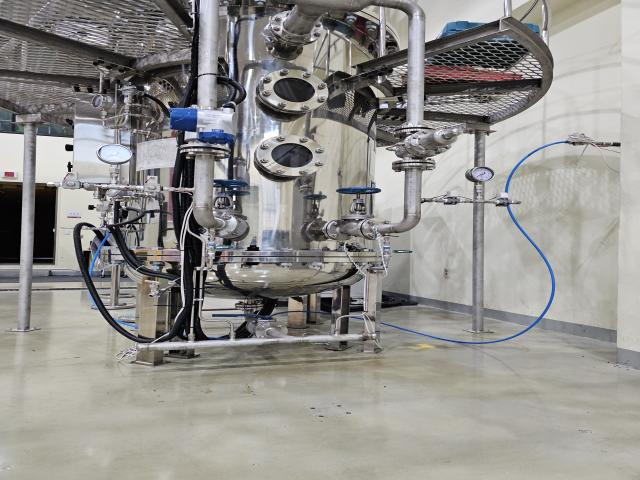Flange: (256, 68, 331, 115), (252, 134, 330, 178)
Flush Ring: (268, 9, 330, 47), (193, 212, 244, 239), (174, 140, 234, 158), (359, 217, 396, 241), (252, 322, 296, 340), (388, 158, 442, 172), (321, 218, 351, 242), (389, 125, 442, 137)
GasRegulator: (88, 87, 164, 133)
Nuts: (56, 177, 91, 193), (492, 196, 520, 211), (140, 182, 168, 196), (438, 194, 467, 207)
Piston Valve: (335, 184, 391, 218), (210, 177, 258, 212)
Pressure Gage: (96, 142, 137, 185), (464, 165, 497, 201)
